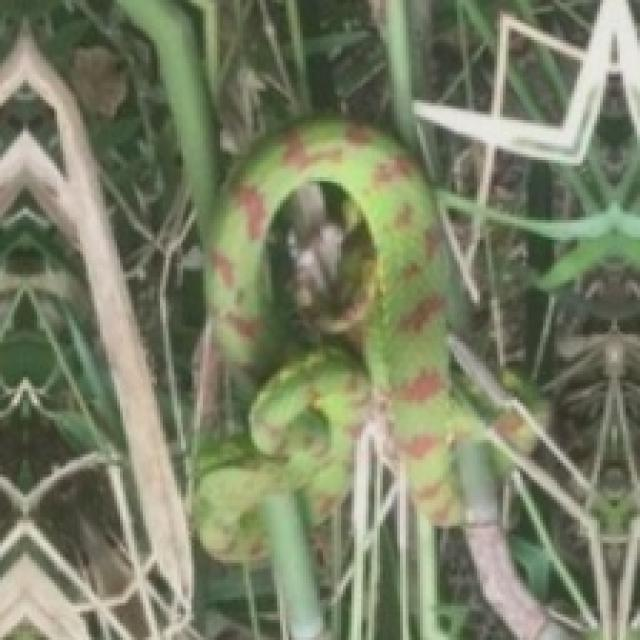philippine pitviper: (194, 117, 471, 637), (197, 117, 469, 557)
